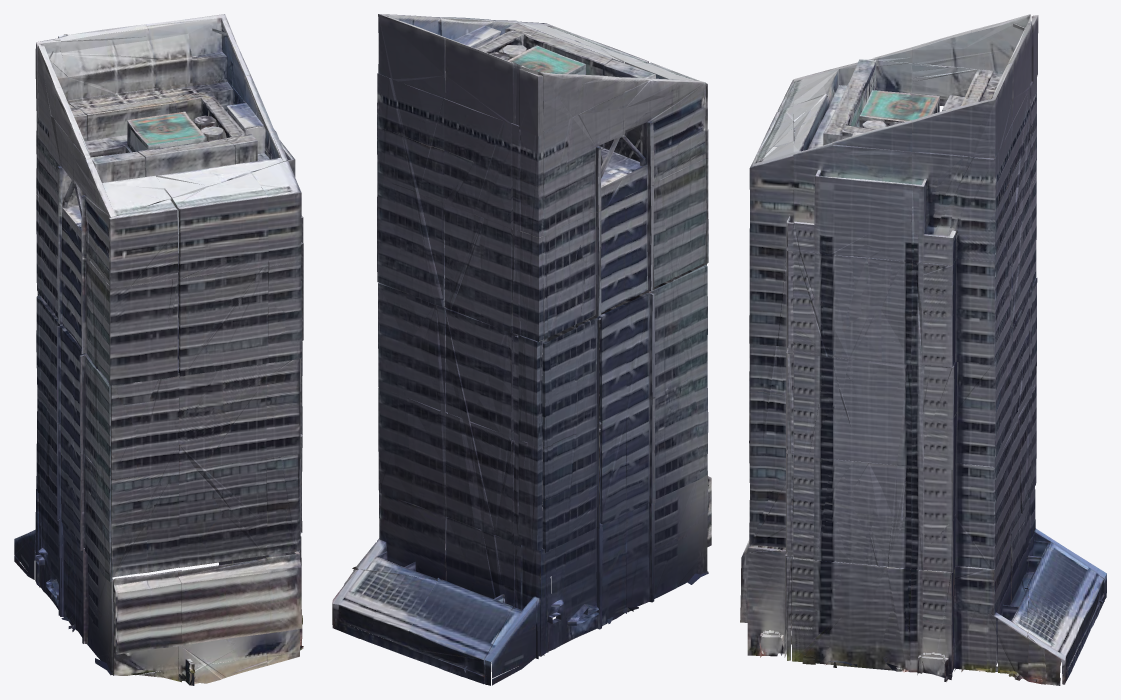
The model's file is Shibuya_T4.obj.
3 views of the same model, side by side, from view 1: azimuth 30°, elevation 25°; view 2: azimuth 150°, elevation 25°; view 3: azimuth 270°, elevation 25° (orthographic). The views are drawn at different scales.
Visible parts, largest first — view 1: Shibuya_T4; view 2: Shibuya_T4; view 3: Shibuya_T4.
Boxes of the visible parts, x1,y1,x2,y2 form: Shibuya_T4: (14, 14, 303, 685); Shibuya_T4: (332, 14, 711, 685); Shibuya_T4: (740, 14, 1106, 685).
Bounding box in the file's own units: 43.92 × 106 × 59.11.
1 material, 1 textured.
